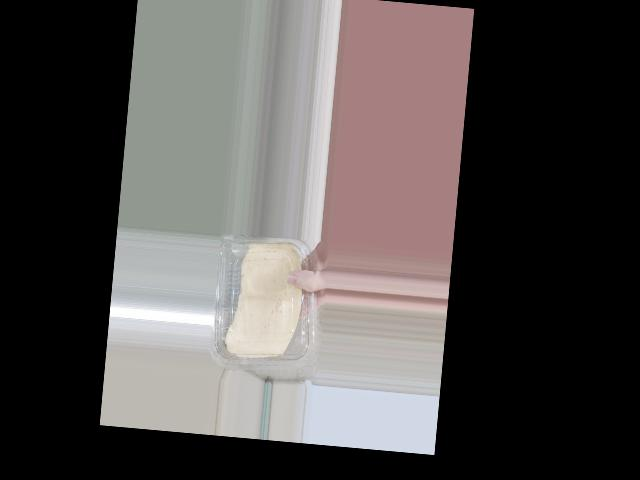cheese: (208, 231, 313, 375)
